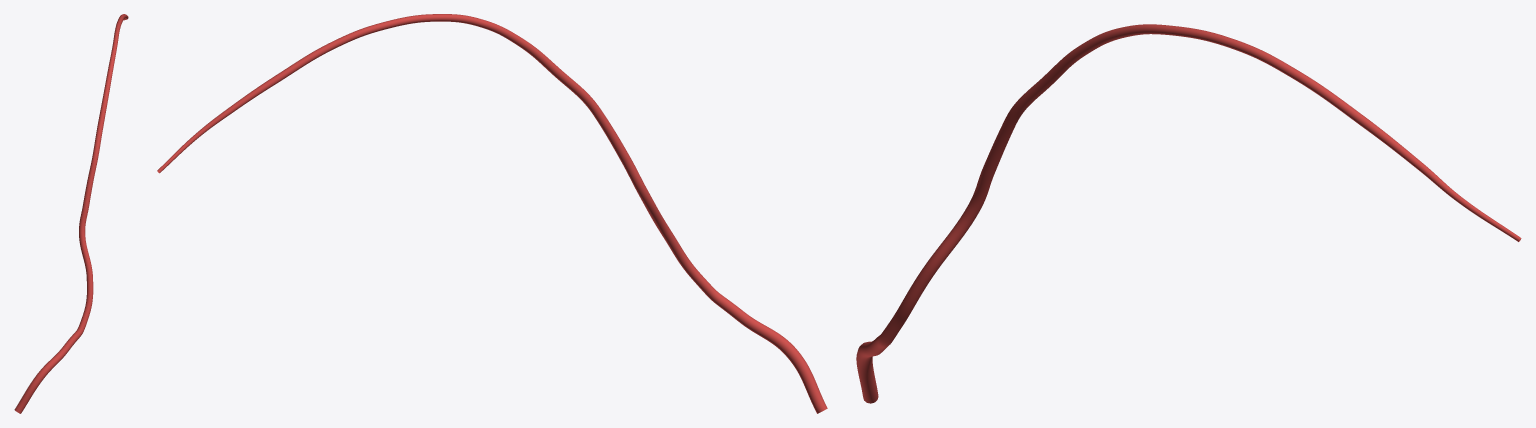
The picture shows the model from 3 angles, left to right: view 1: azimuth 30°, elevation 25°; view 2: azimuth 150°, elevation 25°; view 3: azimuth 270°, elevation 25°; orthographic projection. The views are drawn at different scales.
Visible parts, largest first — view 1: 左侧肋下动脉; view 2: 左侧肋下动脉; view 3: 左侧肋下动脉.
Part boxes in pixels (left/top/right/bottom): 左侧肋下动脉: left=14, top=14, right=128, bottom=413; 左侧肋下动脉: left=157, top=14, right=827, bottom=413; 左侧肋下动脉: left=856, top=24, right=1521, bottom=403.
Bounding box in the file's own units: 0.1127 × 0.1091 × 0.1201.
